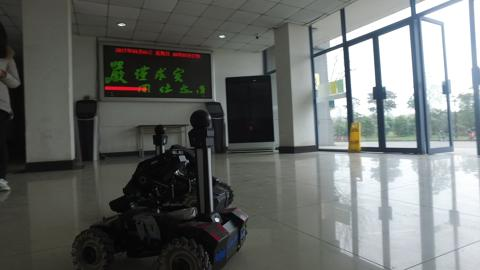chariot: (69, 106, 247, 270)
